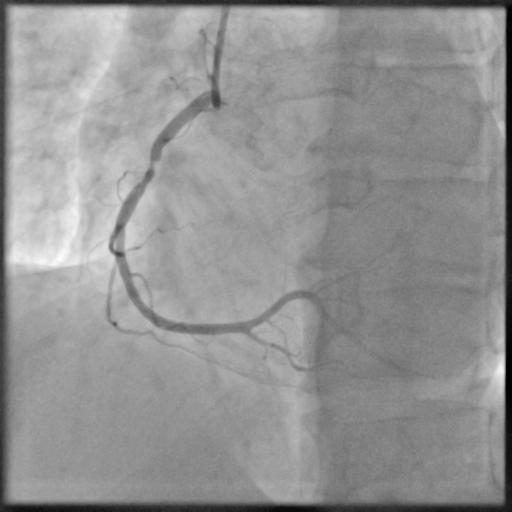Stenosis: (141, 154, 161, 178)
